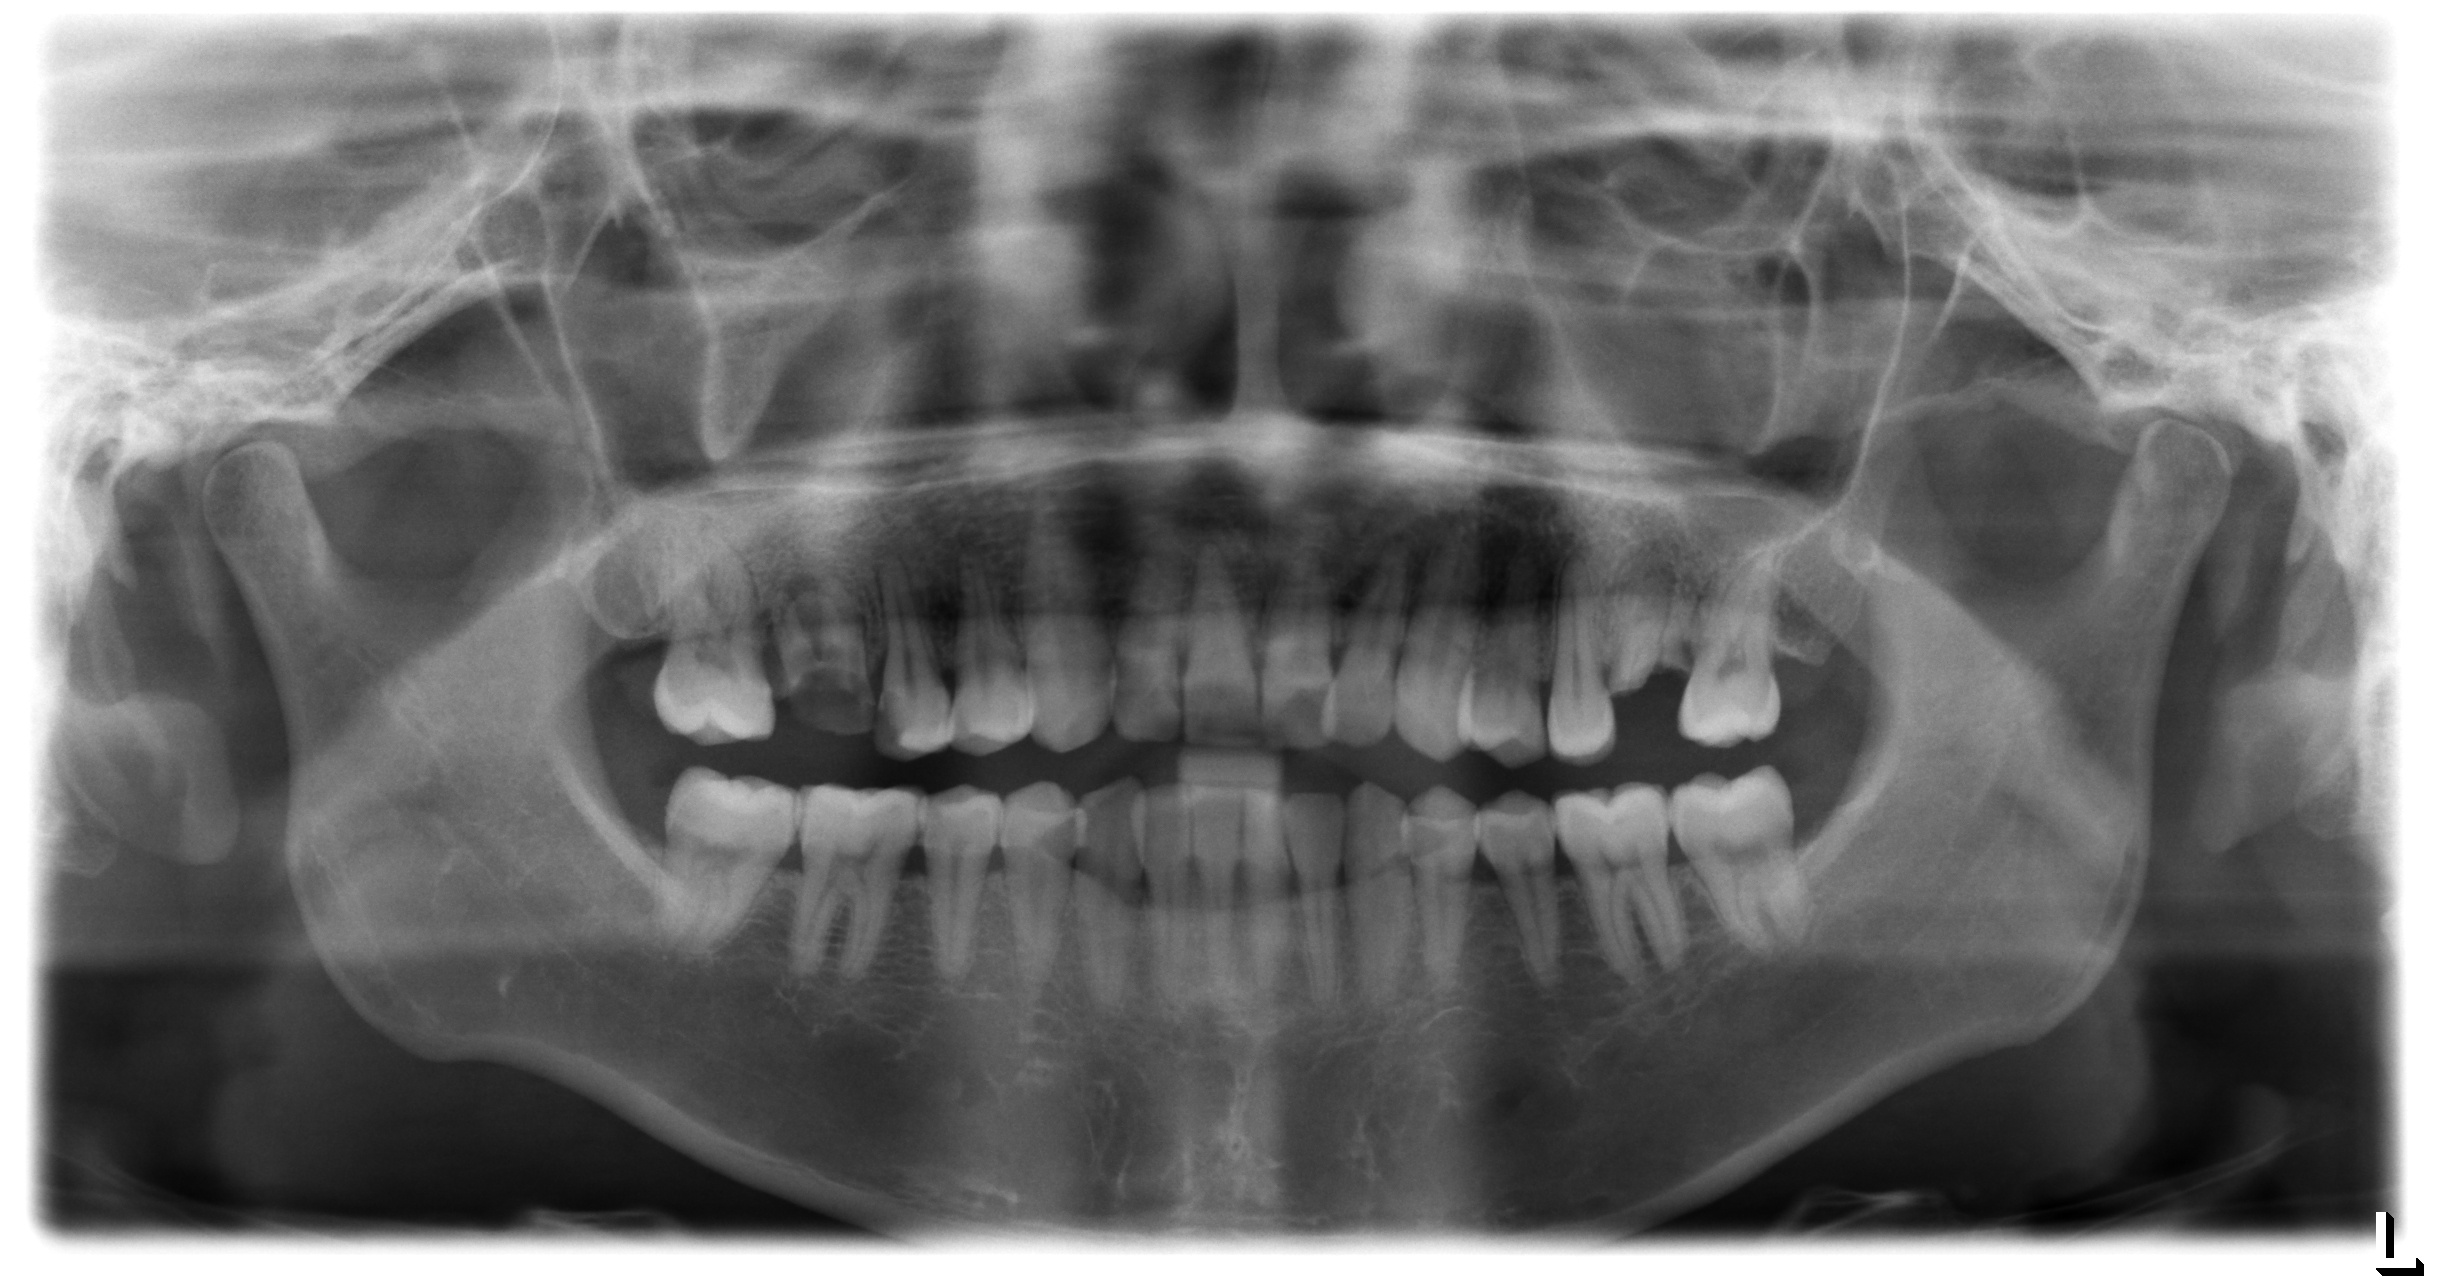Decay: (776, 583, 862, 734), (1615, 575, 1711, 696), (873, 681, 913, 751)
